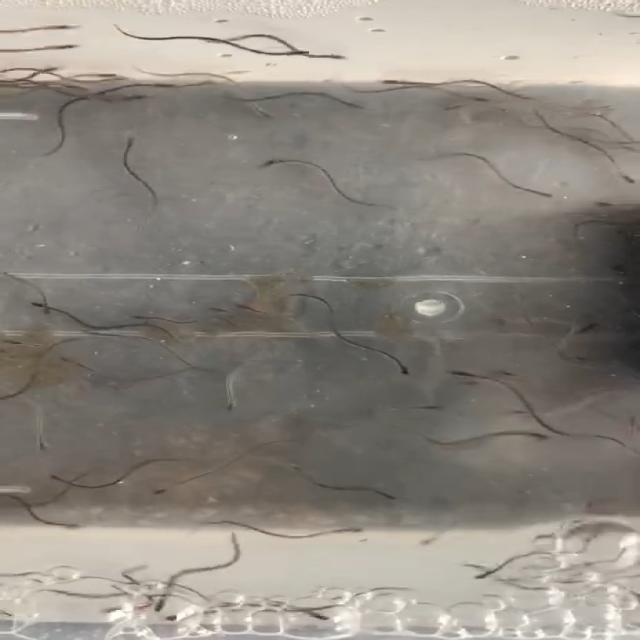active_glass_eel: (505, 178, 563, 204), (246, 150, 298, 173), (198, 394, 262, 411), (328, 93, 366, 119), (386, 366, 434, 386), (458, 562, 497, 585), (28, 436, 68, 458), (333, 524, 387, 540), (518, 425, 560, 445), (110, 90, 162, 106), (230, 99, 273, 118), (289, 612, 339, 626), (442, 357, 475, 378), (58, 514, 88, 536), (114, 309, 164, 322), (138, 593, 173, 611), (0, 335, 37, 352), (158, 614, 209, 626), (45, 19, 83, 35), (195, 303, 238, 317), (148, 482, 188, 497), (53, 40, 88, 56), (384, 76, 412, 96), (31, 305, 66, 321), (405, 398, 444, 412), (373, 489, 405, 506), (408, 532, 438, 550), (224, 296, 262, 310), (88, 66, 120, 82), (324, 48, 353, 63), (118, 131, 146, 146), (21, 298, 63, 308), (465, 93, 489, 110), (64, 83, 100, 94), (44, 471, 80, 481), (144, 76, 168, 90), (280, 47, 305, 59), (42, 63, 64, 76)
